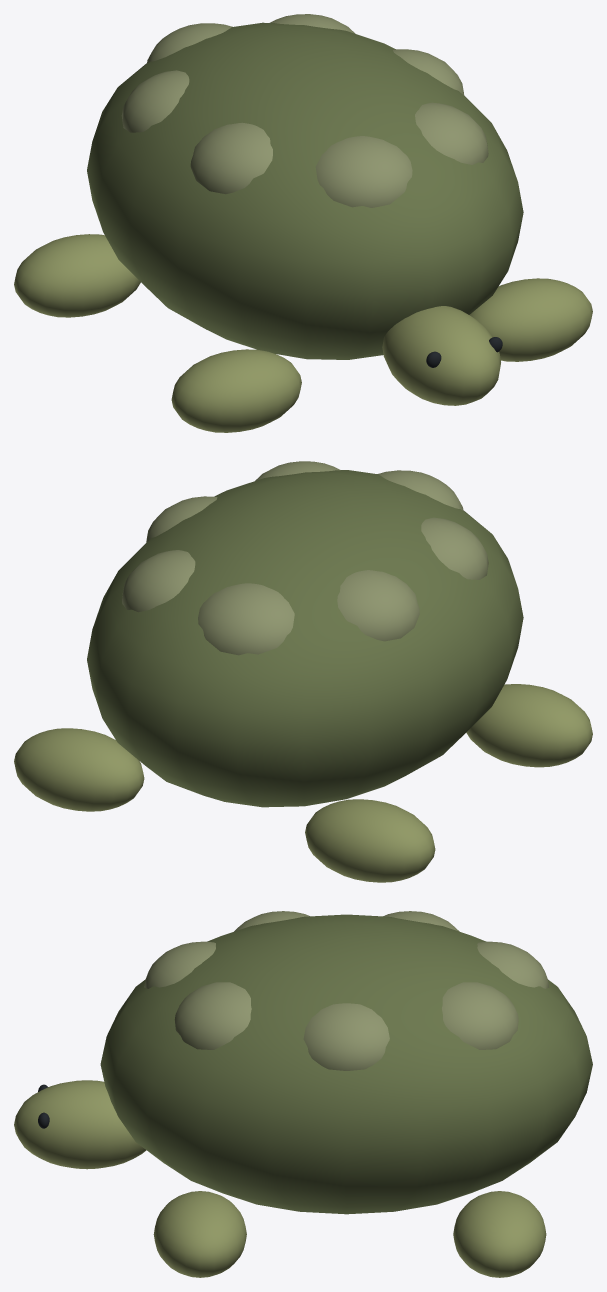
Rendered from pet-34.glb.
The picture shows the model from 3 angles, top to bottom: view 1: azimuth 30°, elevation 25°; view 2: azimuth 150°, elevation 25°; view 3: azimuth 270°, elevation 25°; orthographic projection. The views are drawn at different scales.
Visible parts, largest first — view 1: shell, leg (×3), scute (×7), head; view 2: shell, leg (×3), scute (×7); view 3: shell, scute (×7), leg (×2), head.
Boxes of the visible parts, <box> form: shell: <box>87,22,523,359</box>; leg (×3): <box>14,234,592,432</box>; scute (×7): <box>121,14,488,207</box>; head: <box>382,306,500,405</box>; shell: <box>87,470,523,807</box>; leg (×3): <box>14,684,592,882</box>; scute (×7): <box>122,461,488,655</box>; shell: <box>100,914,592,1214</box>; scute (×7): <box>144,911,549,1070</box>; leg (×2): <box>153,1191,546,1277</box>; head: <box>14,1080,146,1169</box>.
Bounding box in the file's own units: 0.68 × 0.435 × 0.87.
